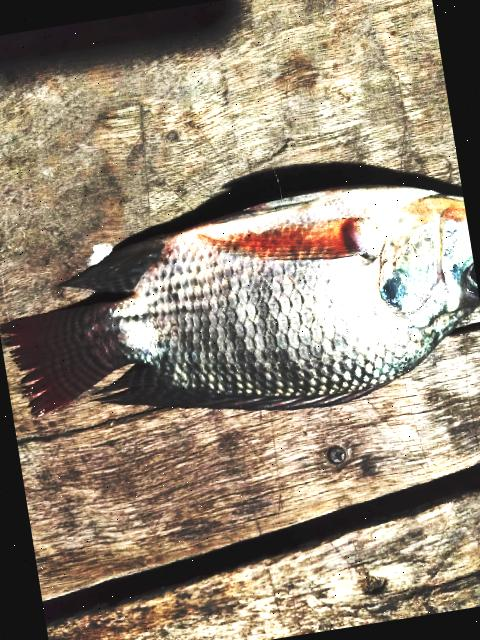Healthy Fish: (0, 184, 480, 415)
